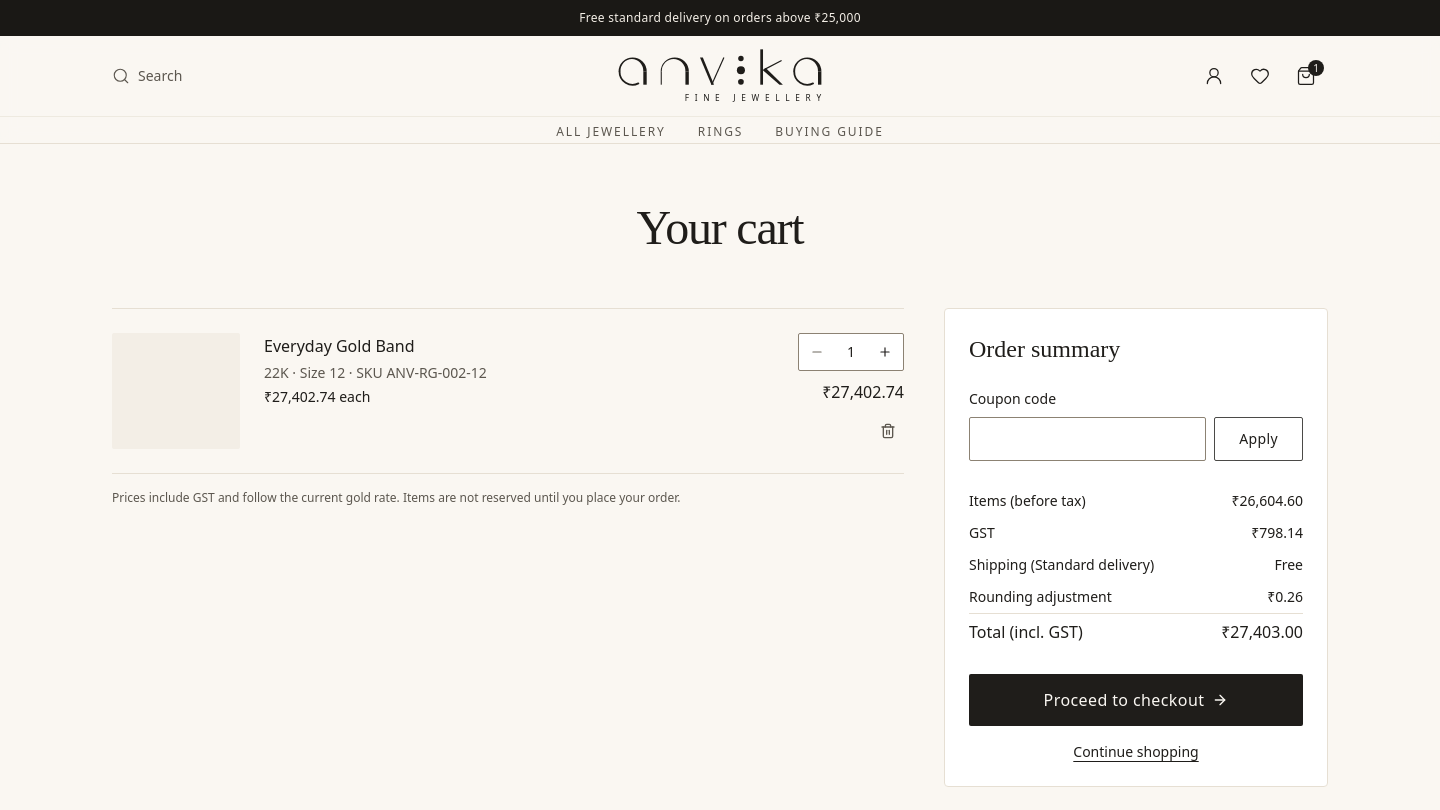
it: cart page › explains why a coupon was rejected
In the field labelled "Coupon code": (1088, 439) [969, 417, 1206, 461], type "expired10"
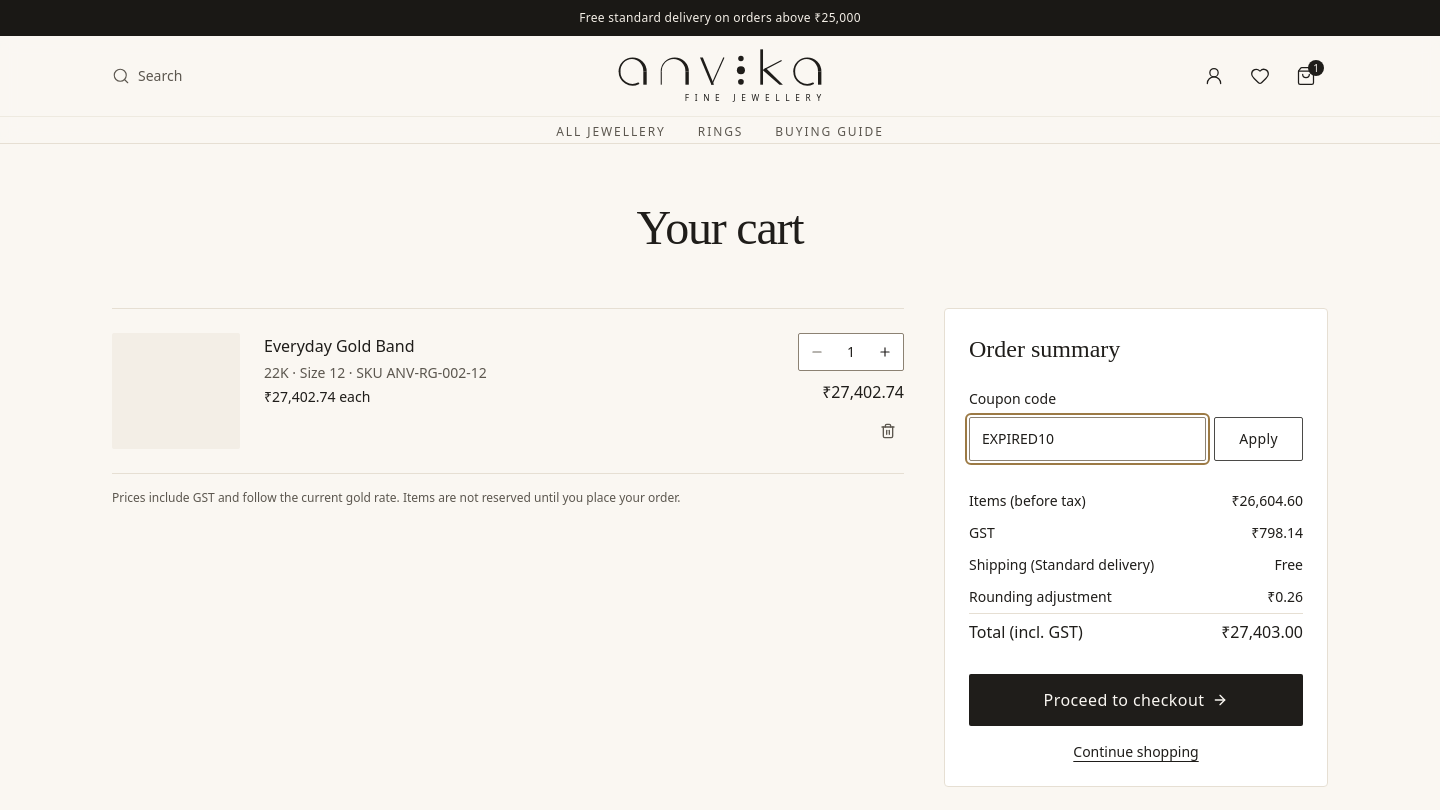
Click the button "Apply": (1259, 439) [1214, 417, 1303, 461]
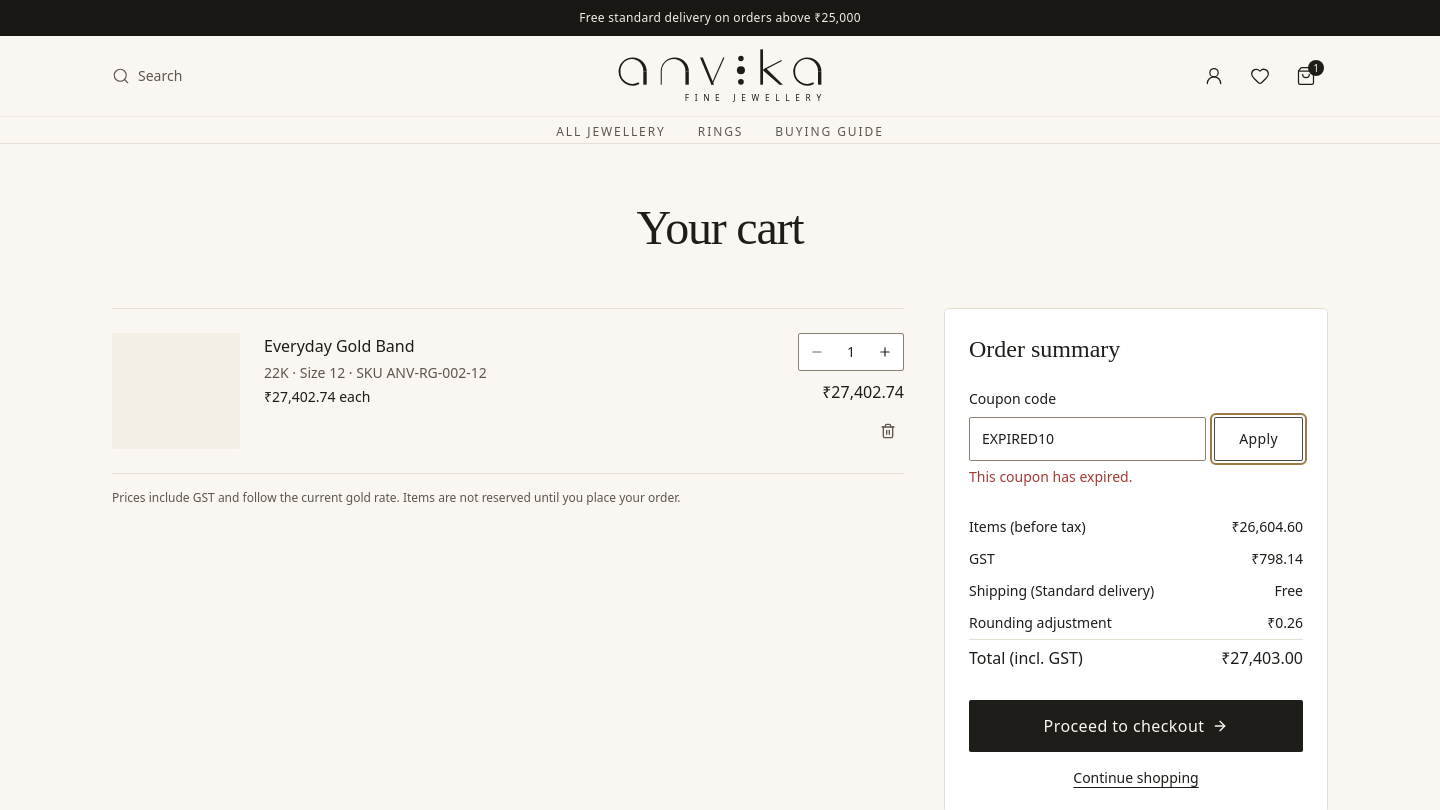
Expected: the text "This coupon has expired." is shown, [969, 467, 1132, 486]
